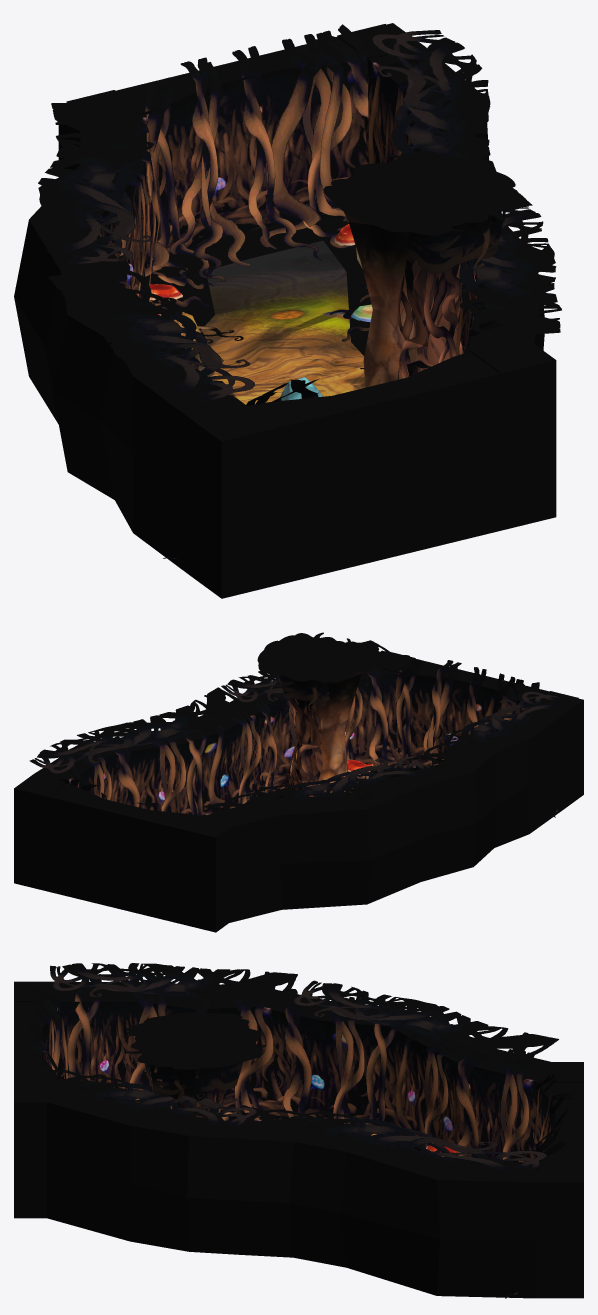
File: Dungeon_021_Road_003.fbx
The picture shows the model from 3 angles, top to bottom: view 1: azimuth 30°, elevation 25°; view 2: azimuth 150°, elevation 25°; view 3: azimuth 270°, elevation 25°; orthographic projection. The views are drawn at different scales.
Visible parts, largest first — view 1: un_021_Door_002 (×2), Dan1, Dungeon_021_Tsuta_002, un_021_Door_002_Object1 (×2), Dan2, Dungeon_021_Object_010, Dungeon_011_Object_010, Dungeon_021_Tsuta_001, Dungeon_021_Object_011, Dan1_shadow, Dun_011_Door_002_shadow; view 2: Dan1, un_021_Door_002 (×2), Dungeon_021_Tsuta_002, Dungeon_021_Tsuta_001, Dungeon_021_Object_010, un_021_Door_002_Object1, Dungeon_011_Object_010, Dungeon_021_Object_011; view 3: Dan1, Dungeon_021_Tsuta_002, Dungeon_021_Tsuta_001, Dungeon_021_Object_010, un_021_Door_002 (×2), un_021_Door_002_Object1 (×2), Dungeon_021_Object_011.
Boxes of the visible parts, x1,y1,x2,y2 form: un_021_Door_002 (×2): [66, 24, 548, 584]; Dan1: [14, 23, 556, 598]; Dungeon_021_Tsuta_002: [38, 30, 561, 405]; un_021_Door_002_Object1 (×2): [145, 24, 433, 559]; Dan2: [201, 240, 365, 404]; Dungeon_021_Object_010: [323, 151, 521, 275]; Dungeon_011_Object_010: [344, 212, 430, 387]; Dungeon_021_Tsuta_001: [46, 59, 512, 397]; Dungeon_021_Object_011: [396, 222, 477, 379]; Dan1_shadow: [146, 216, 371, 355]; Dun_011_Door_002_shadow: [193, 221, 322, 270]; Dan1: [14, 650, 583, 932]; un_021_Door_002 (×2): [19, 651, 578, 924]; Dungeon_021_Tsuta_002: [29, 640, 571, 821]; Dungeon_021_Tsuta_001: [63, 661, 540, 815]; Dungeon_021_Object_010: [257, 632, 369, 711]; un_021_Door_002_Object1: [374, 658, 558, 817]; Dungeon_011_Object_010: [306, 671, 361, 796]; Dungeon_021_Object_011: [277, 681, 353, 796]; Dan1: [14, 981, 583, 1298]; Dungeon_021_Tsuta_002: [25, 963, 558, 1174]; Dungeon_021_Tsuta_001: [67, 978, 535, 1163]; Dungeon_021_Object_010: [123, 1012, 266, 1102]; un_021_Door_002 (×2): [14, 983, 583, 1178]; un_021_Door_002_Object1 (×2): [23, 988, 574, 1298]; Dungeon_021_Object_011: [145, 1064, 225, 1117].
Size of what is drawn, in the model's own units: 8 by 3.03 by 9.
